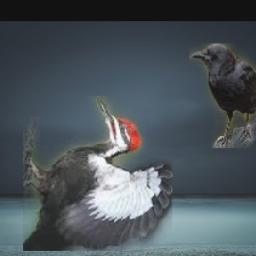Crow: (190, 43, 256, 148)
Woodpecker: (24, 96, 173, 251)
